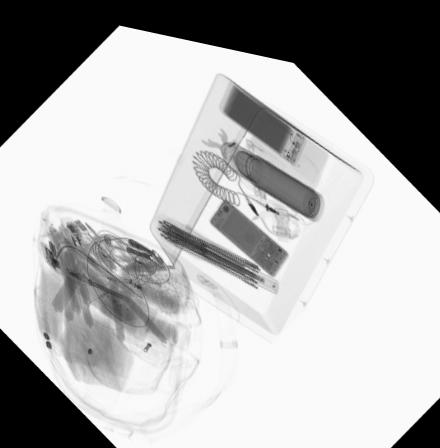Powerbank: (217, 71, 307, 153)
